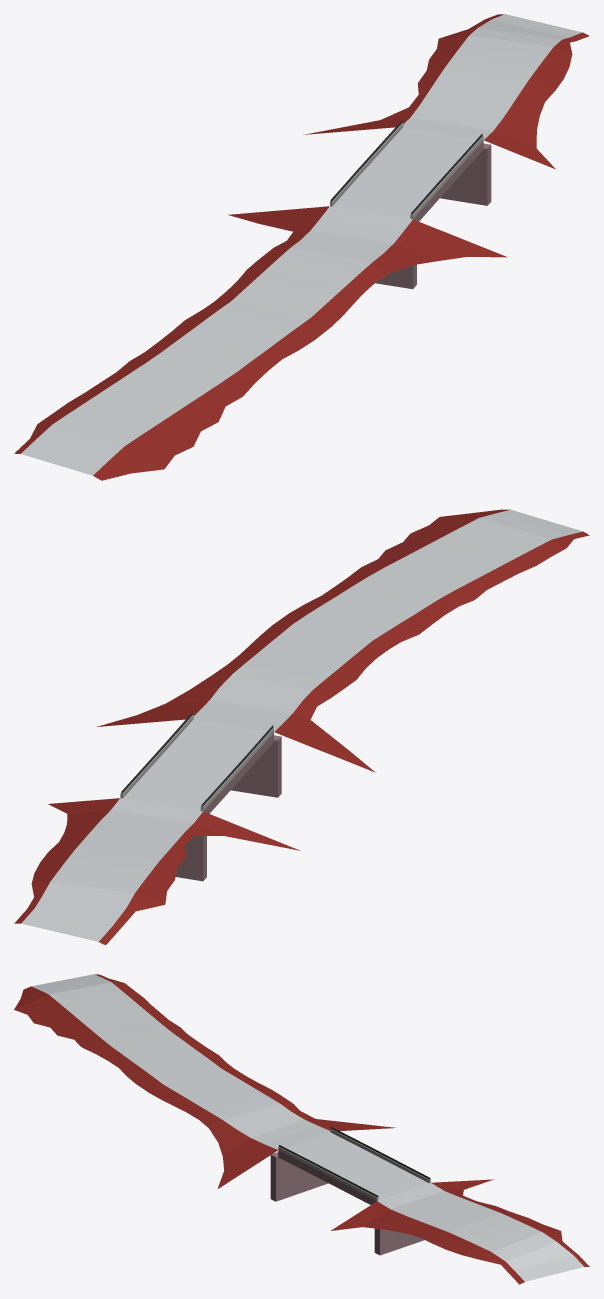
File: br_n259_rossdale.gltf
3 views of the same model, one above another, from view 1: azimuth 30°, elevation 25°; view 2: azimuth 210°, elevation 25°; view 3: azimuth 270°, elevation 25° (orthographic). The views are drawn at different scales.
Visible parts, largest first — view 1: br_n259_rossdale; view 2: br_n259_rossdale; view 3: br_n259_rossdale.
Part boxes in pixels (x1=…): br_n259_rossdale: x1=14, y1=14, x2=589, y2=480; br_n259_rossdale: x1=14, y1=509, x2=589, y2=945; br_n259_rossdale: x1=14, y1=974, x2=589, y2=1284.
Bounding box in the file's own units: 143 × 11.55 × 108.
